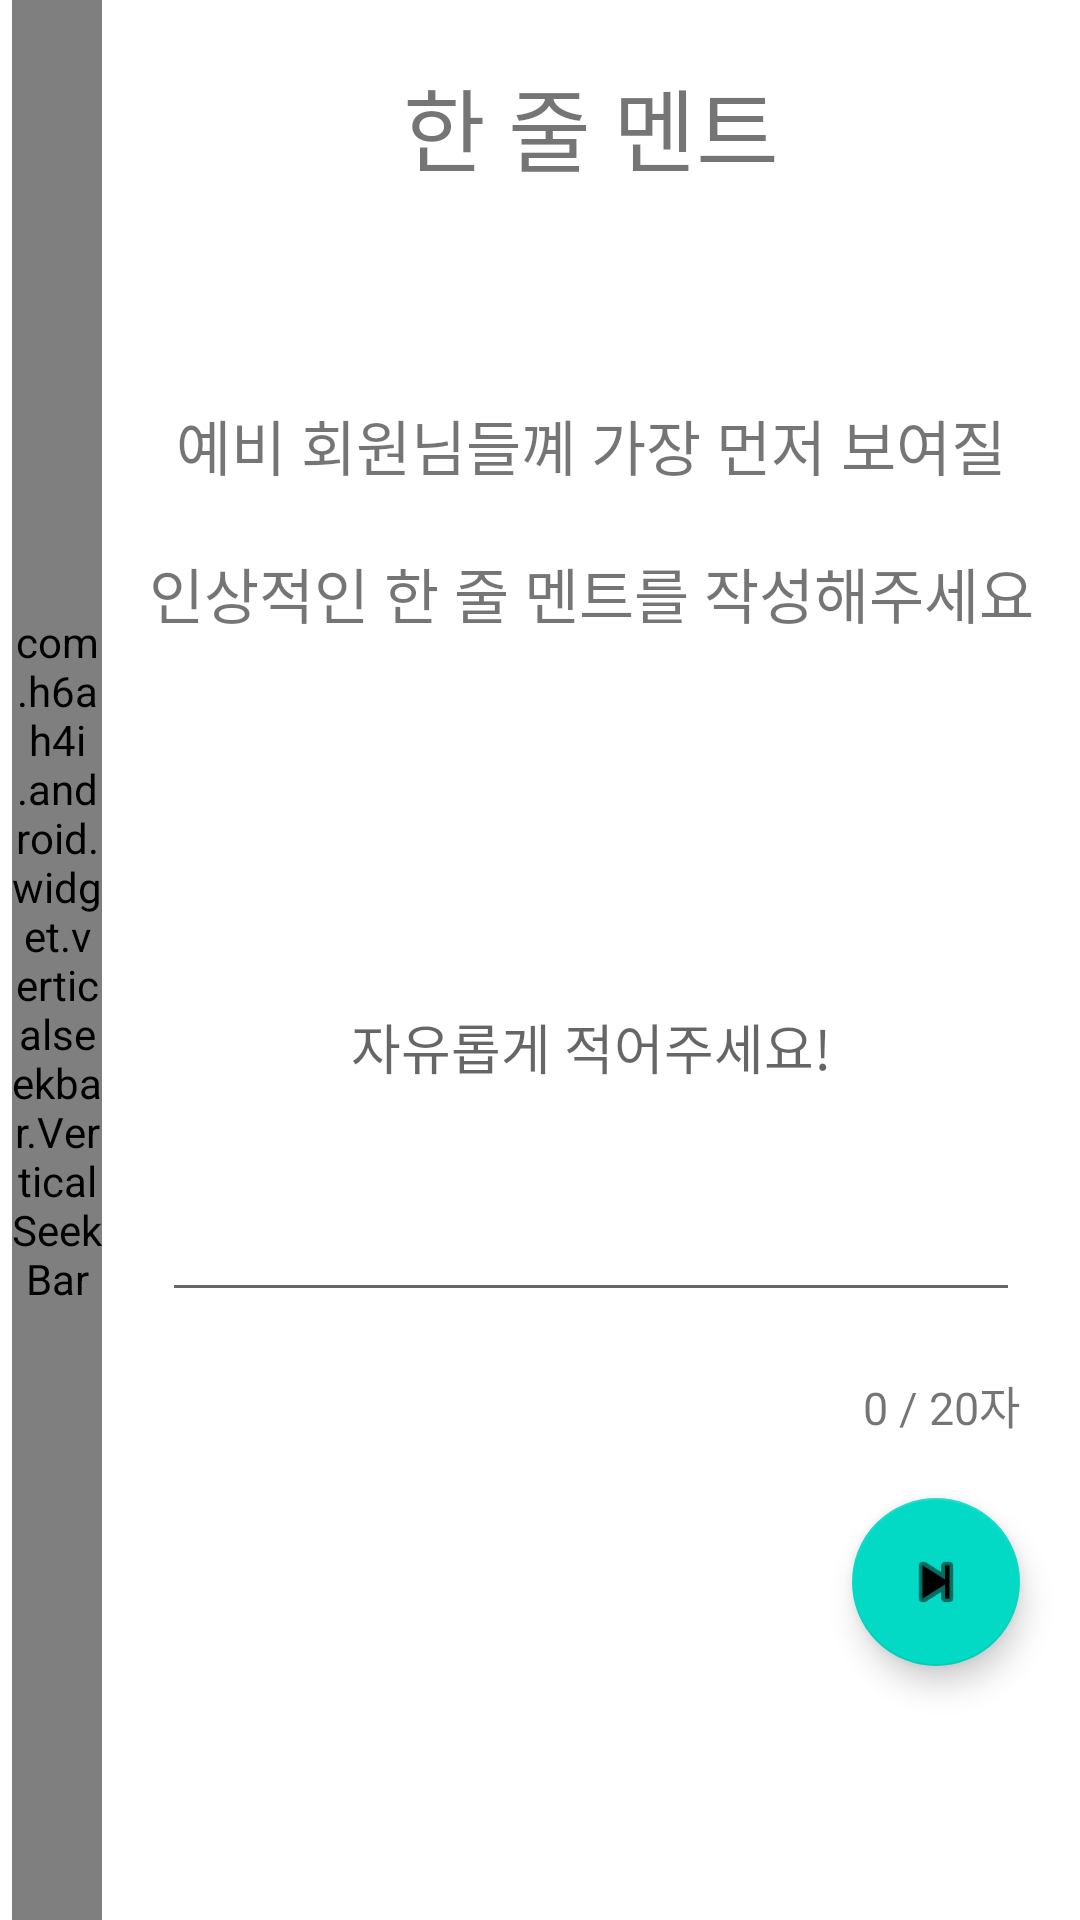

Where to tap for icons on this 1080x1920 app screen, as (x,y):
next: (936,1582)
